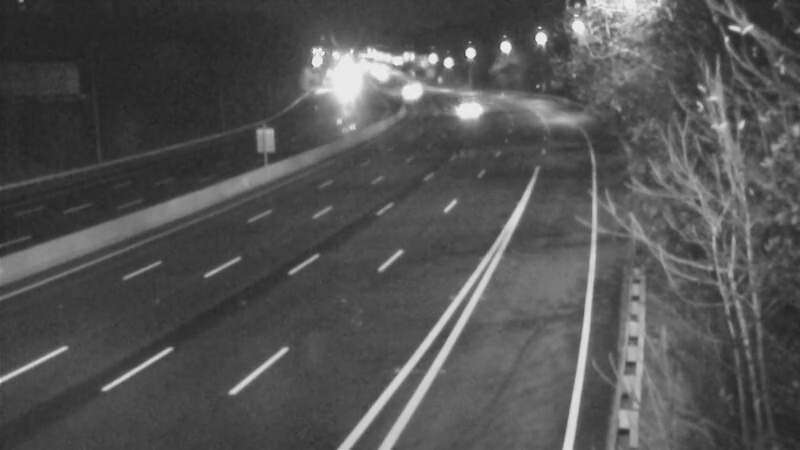vehicle: (393, 71, 443, 121), (437, 78, 487, 128)
